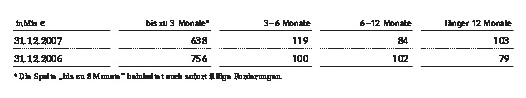table: (0, 0, 526, 98)
